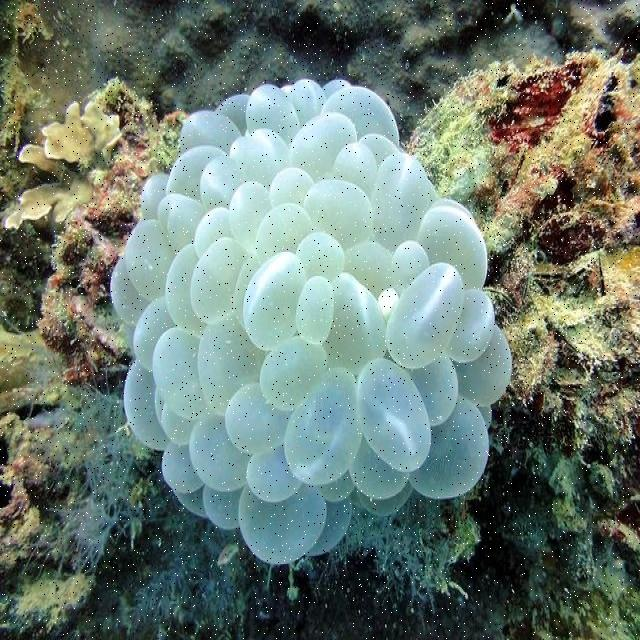reefs: (110, 77, 513, 566)
